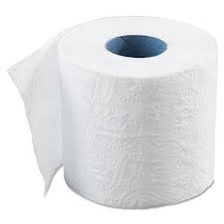tissue: (0, 8, 224, 214)
